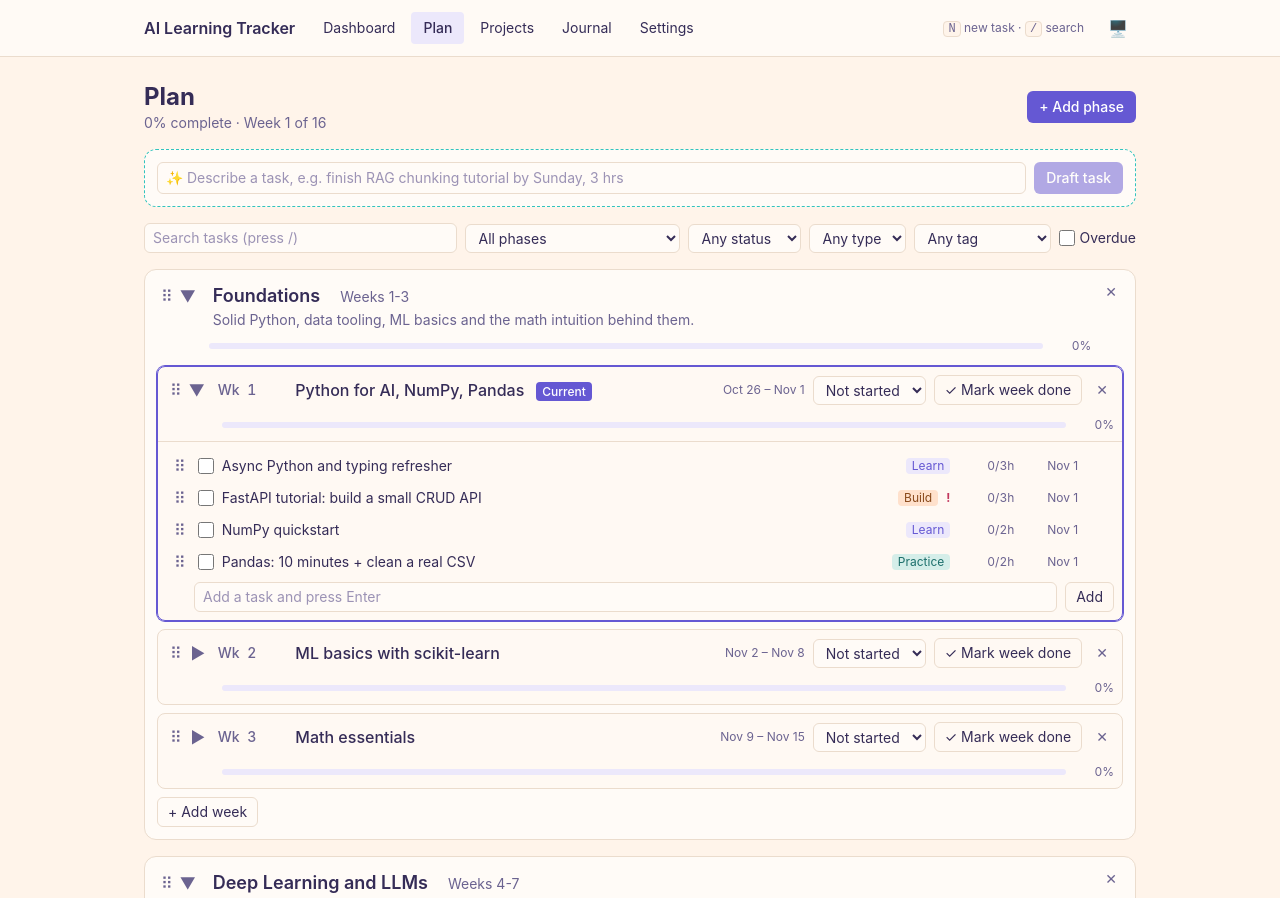
Natural-language add › drafts a task, files it in the week of its due date, and adds it
This screenshot has width=1280, height=898.
Expected: the heading "Plan" is shown, [144,82,195,111]
Type "finish RAG chunking tutorial by Sunday, 3 hrs" into the field labelled "Describe a task" at (592, 178), box [157,162,1026,194]
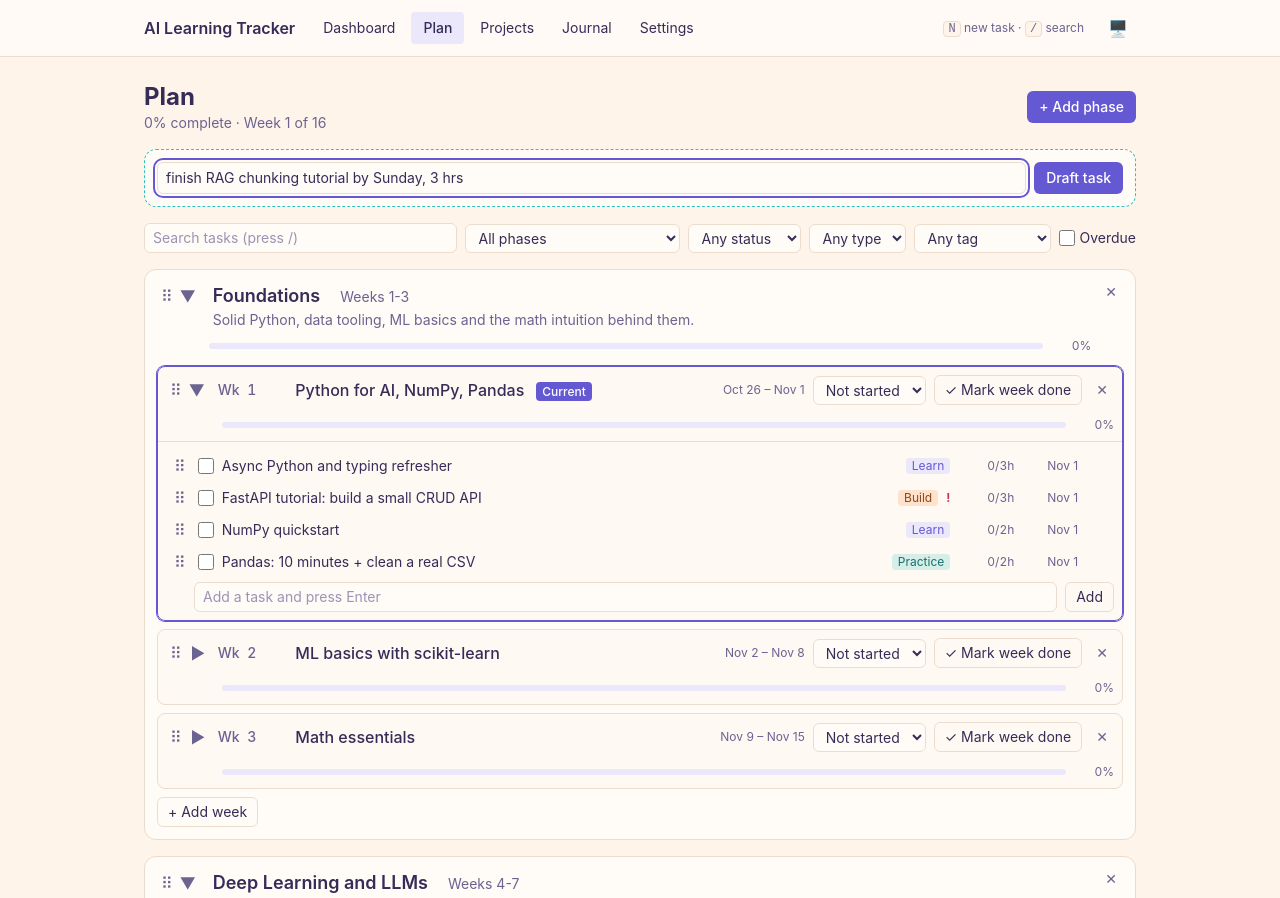
Click the button "Draft task" at (1079, 178), box [1034,162,1123,194]
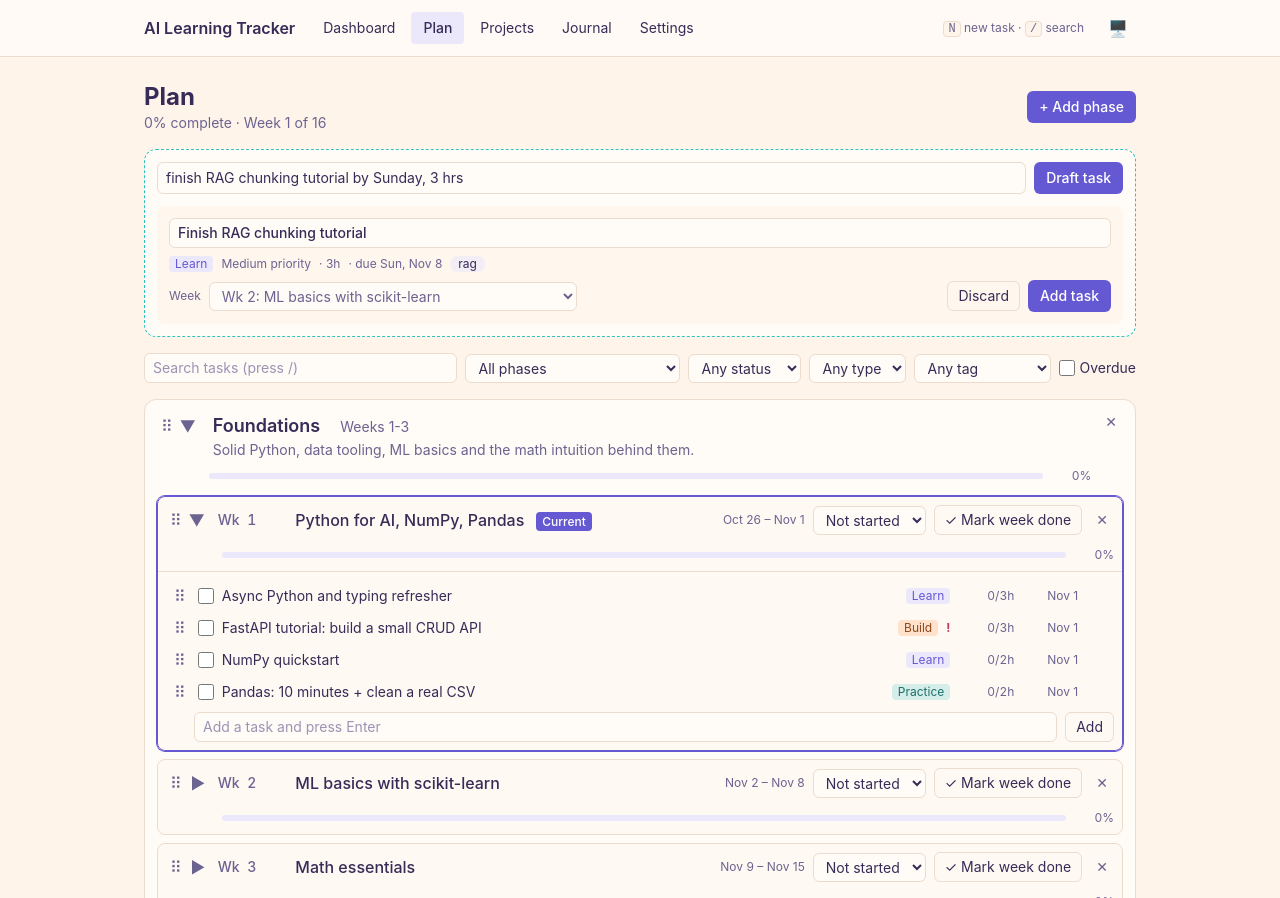
Click the button "Add task" at (1070, 296), box [1028,280,1111,312]
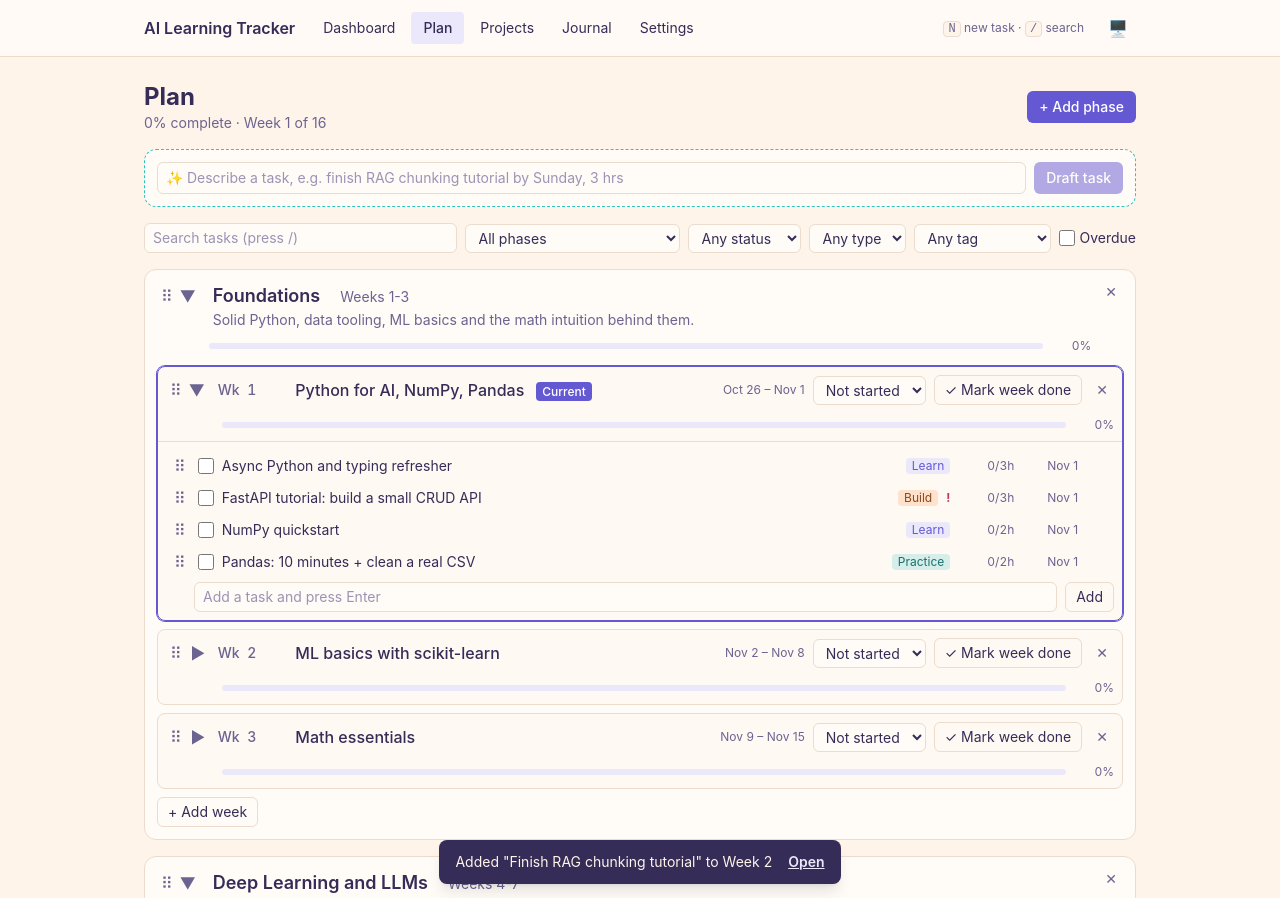
Now the text "Added \"Finish RAG chunking tutorial\" to Week 2" is shown, box [456,852,772,872]
